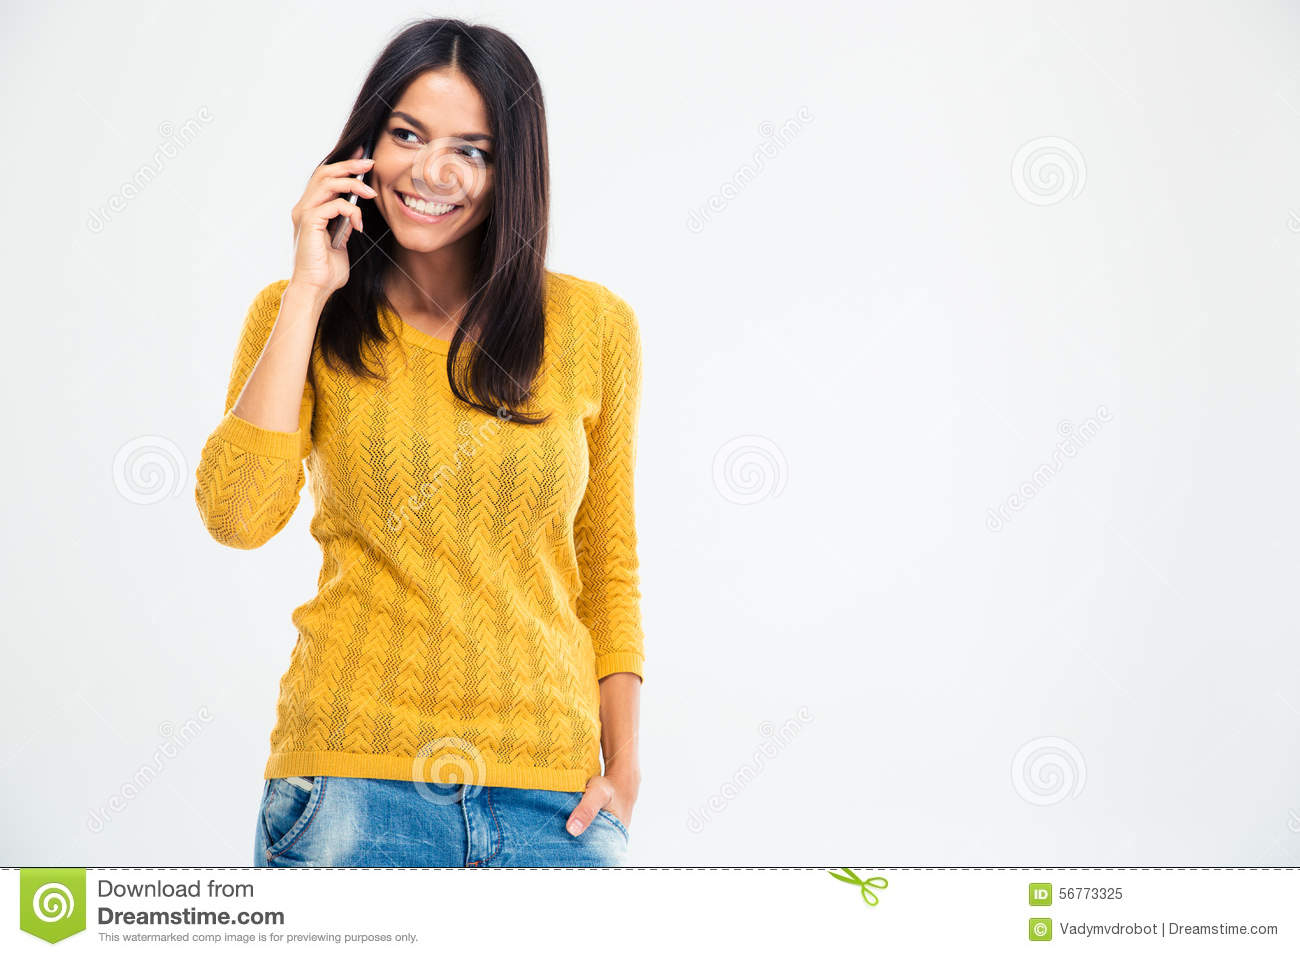phone: (329, 128, 374, 252)
talk: (292, 96, 496, 323)
